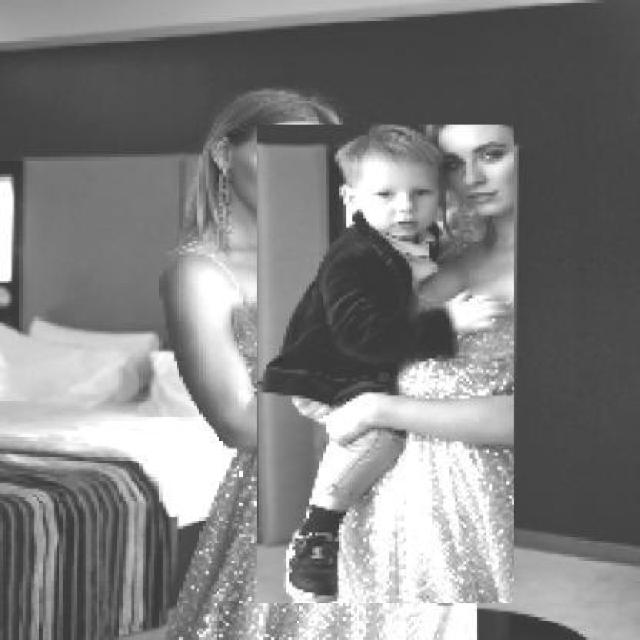child: (255, 125, 514, 606)
